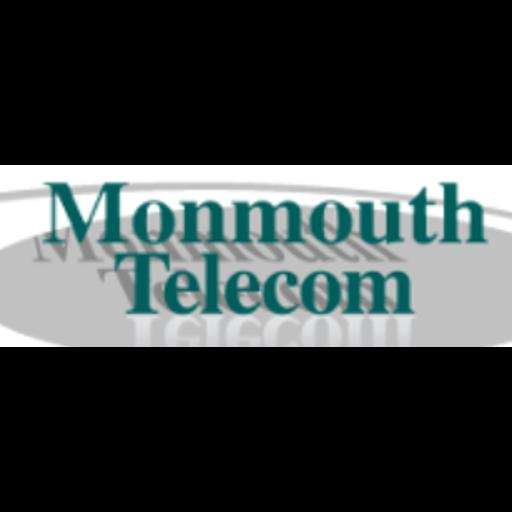Monmouth Telecom: (0, 165, 512, 347)
